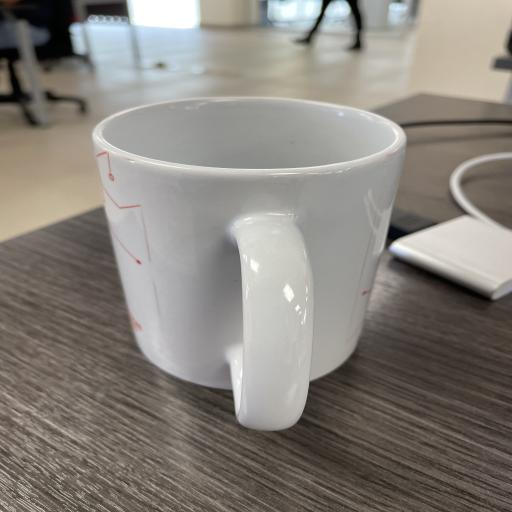cup: (90, 93, 410, 429)
